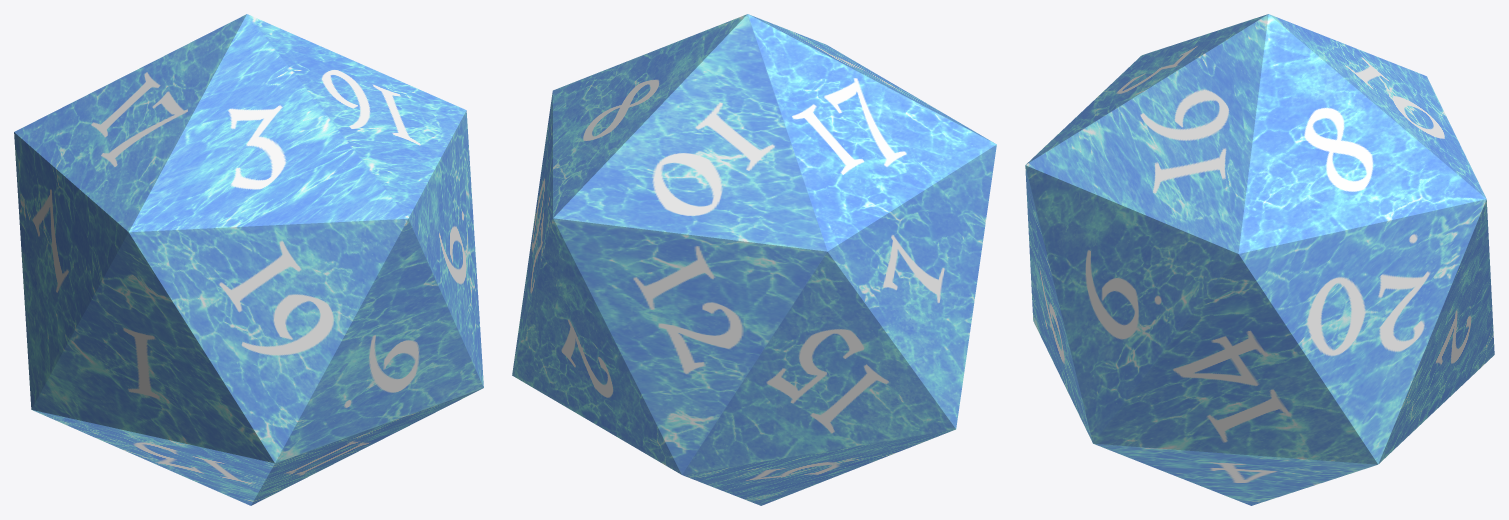
3 renders of one model, left to right at view 1: azimuth 30°, elevation 25°; view 2: azimuth 150°, elevation 25°; view 3: azimuth 270°, elevation 25°, orthographic. The views are drawn at different scales.
Parts seen in each view (by area): view 1: pPlatonic1; view 2: pPlatonic1; view 3: pPlatonic1.
Boxes of the visible parts, x1=… form: pPlatonic1: x1=14, y1=14, x2=483, y2=505; pPlatonic1: x1=512, y1=14, x2=996, y2=505; pPlatonic1: x1=1025, y1=14, x2=1494, y2=505.
Size of the model in its own units: 3.53 by 3.95 by 3.4.
